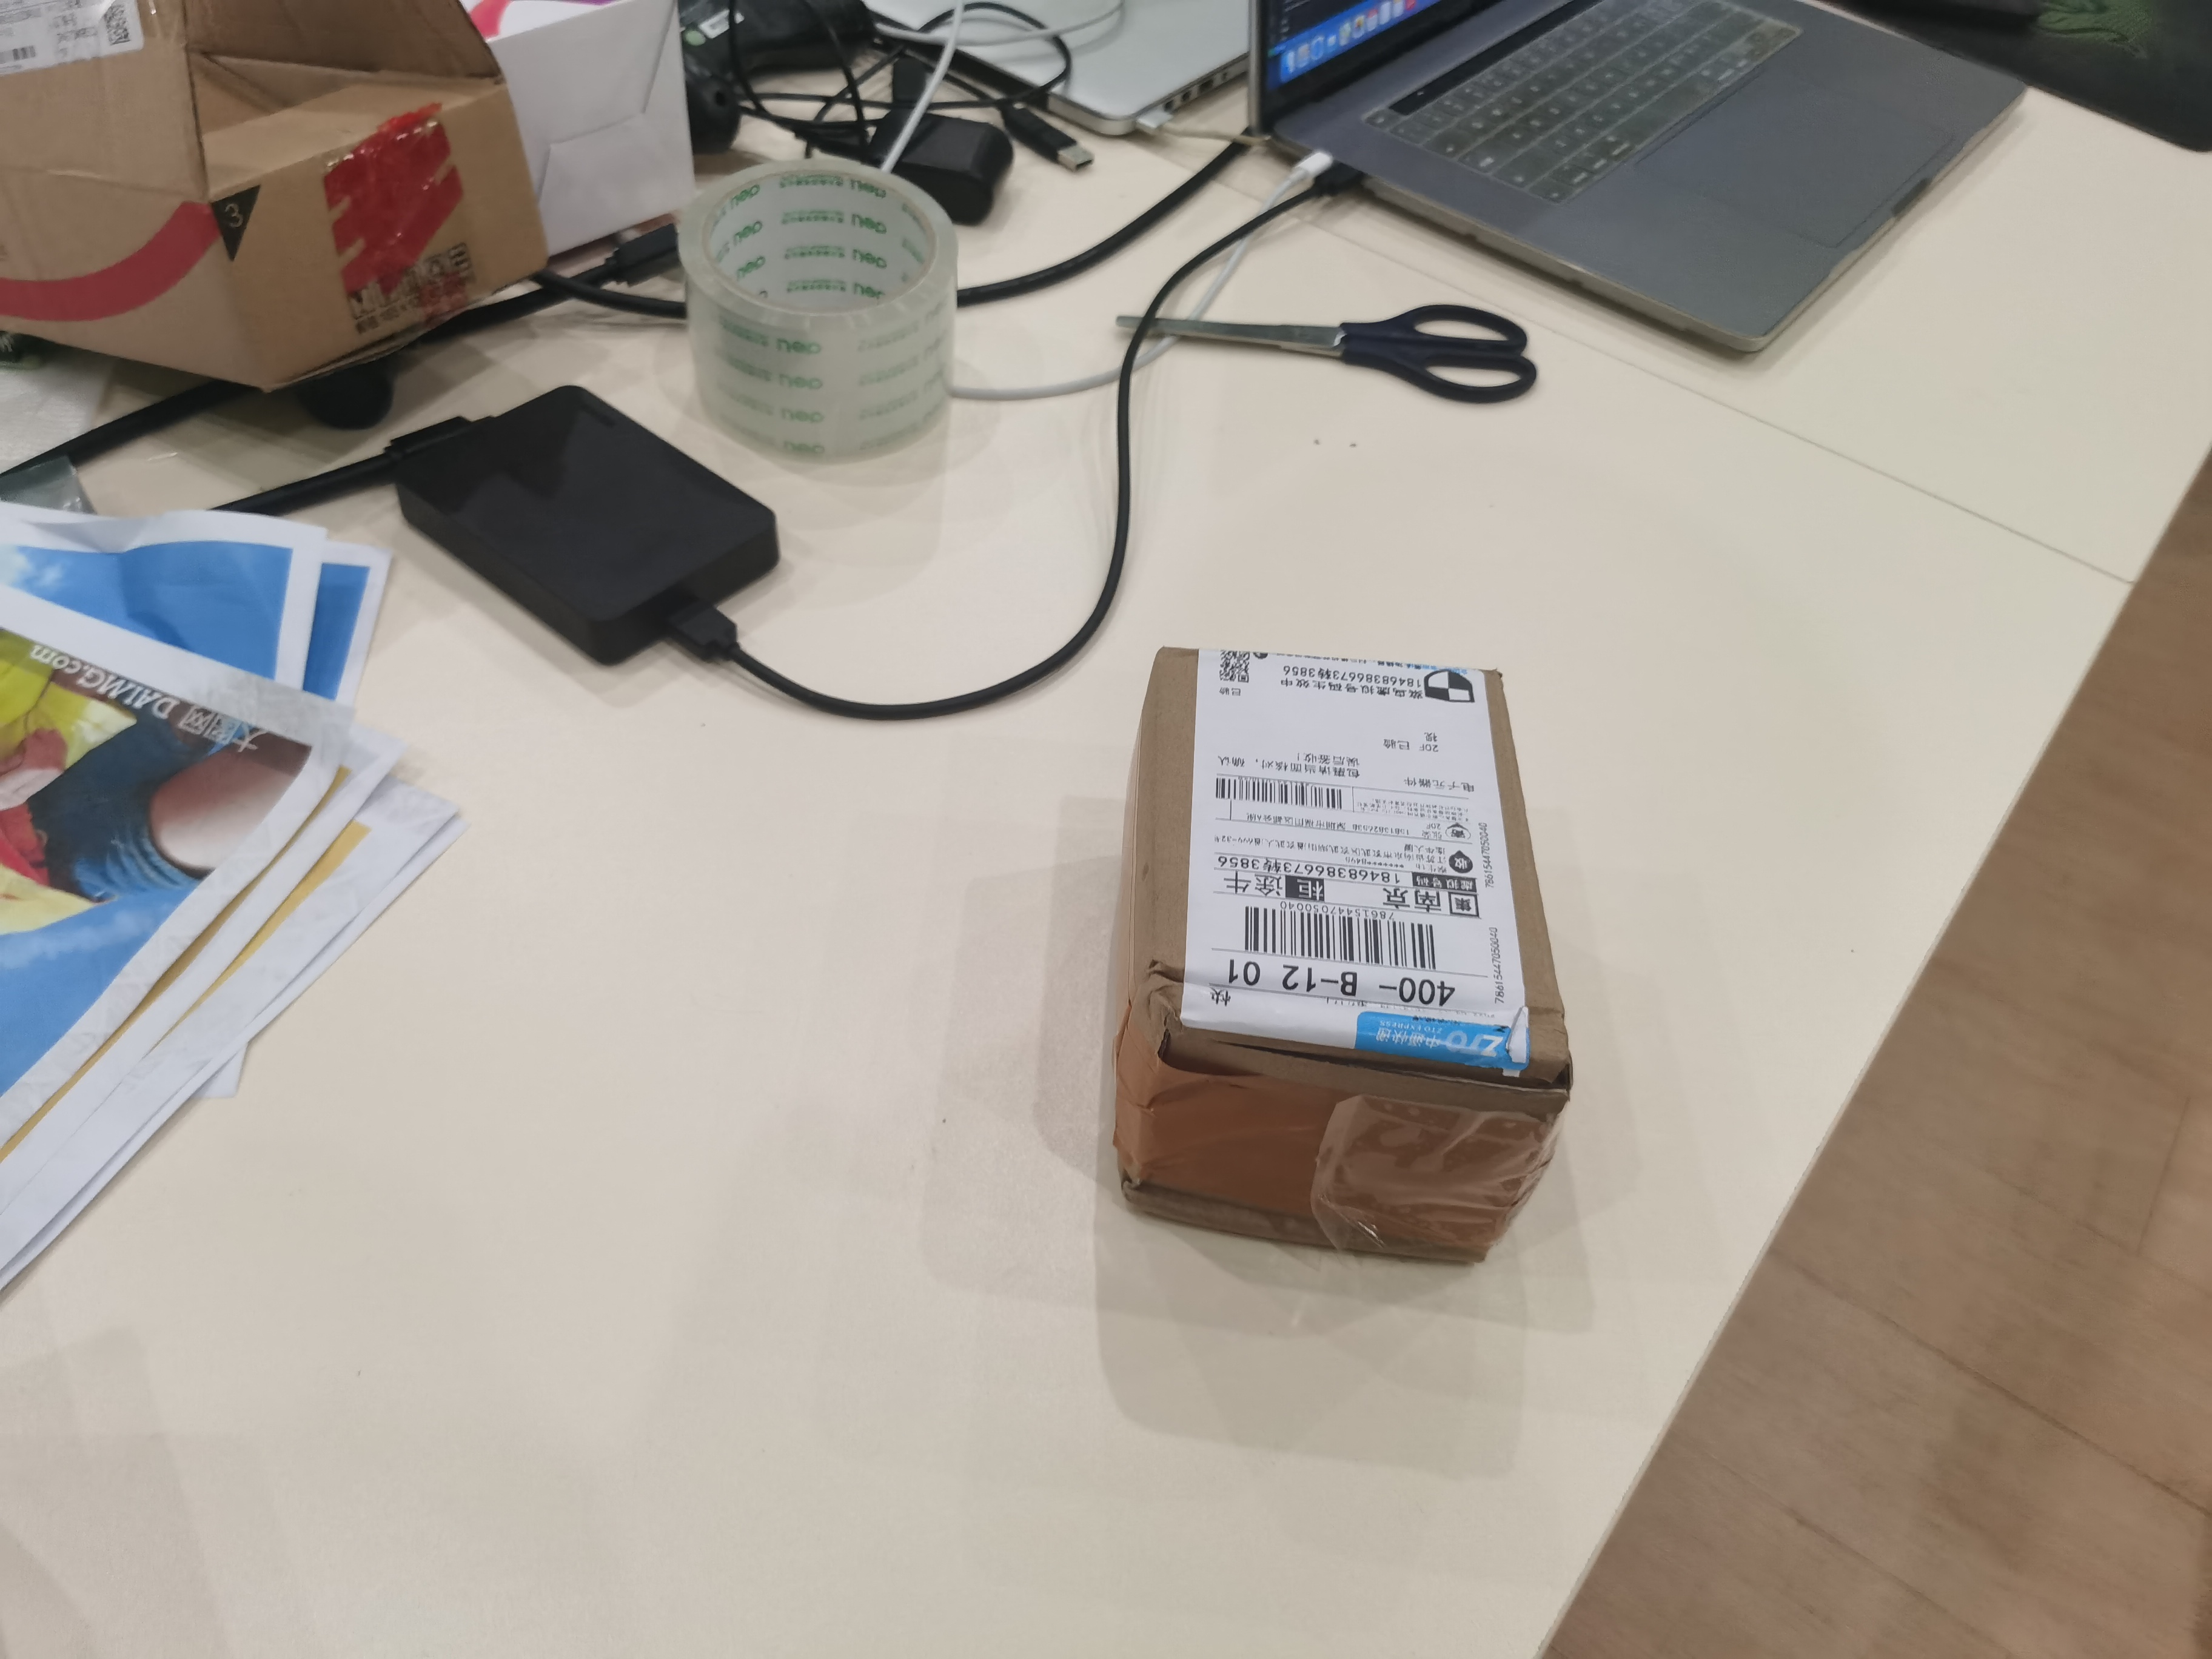box: (1092, 627, 1609, 1321)
